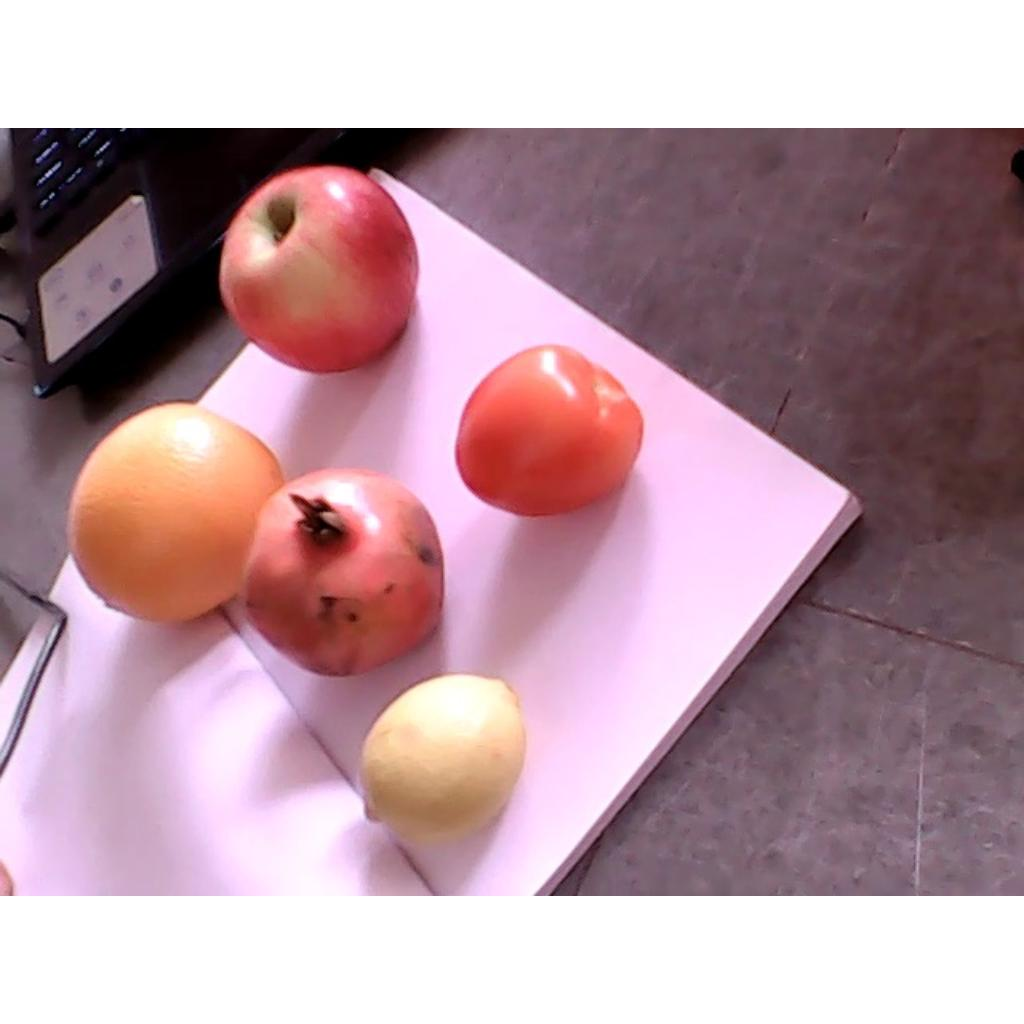apple: (220, 165, 419, 377)
lemon: (357, 674, 522, 839)
orange: (65, 403, 288, 621)
pomegranate: (239, 468, 445, 680)
tomato: (459, 344, 639, 516)
